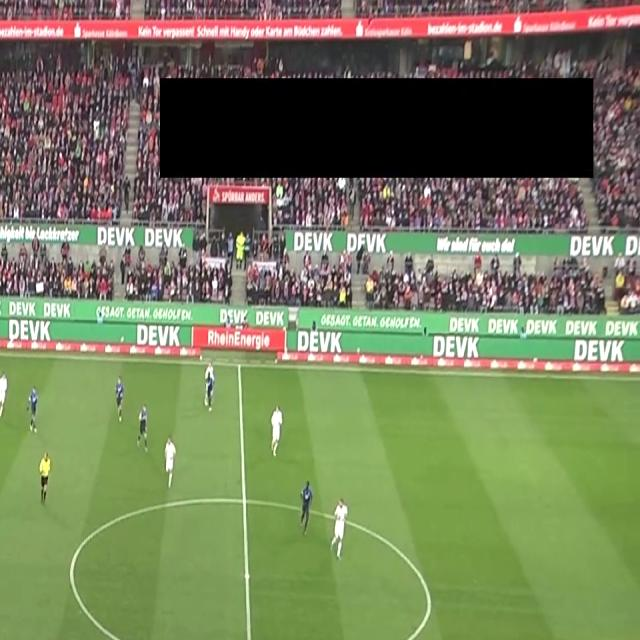referee: (36, 452, 60, 511)
soccer-player: (329, 498, 358, 566), (292, 477, 316, 539), (266, 404, 288, 464), (132, 402, 154, 458), (158, 435, 179, 493), (26, 380, 47, 434), (200, 360, 220, 416), (112, 371, 132, 423), (0, 370, 11, 421), (180, 639, 211, 640)
